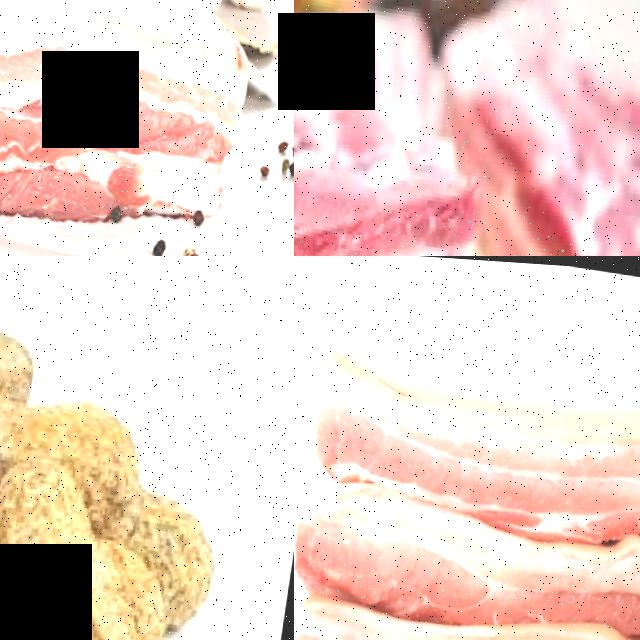peanuts: (0, 297, 168, 538)
pork belly: (305, 334, 640, 556), (0, 0, 258, 241), (294, 461, 640, 640), (475, 35, 640, 256), (294, 112, 492, 256)
